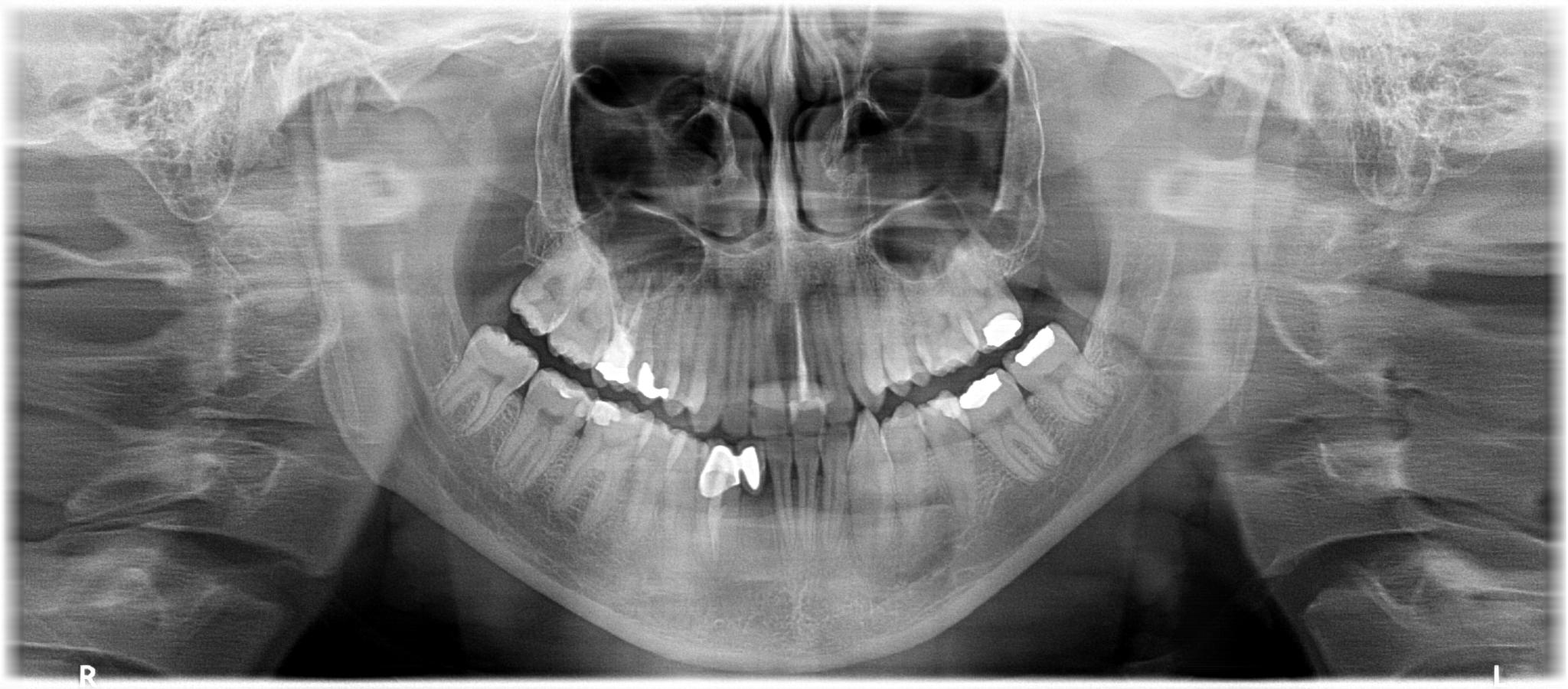Premolars: (229, 215, 734, 689)
